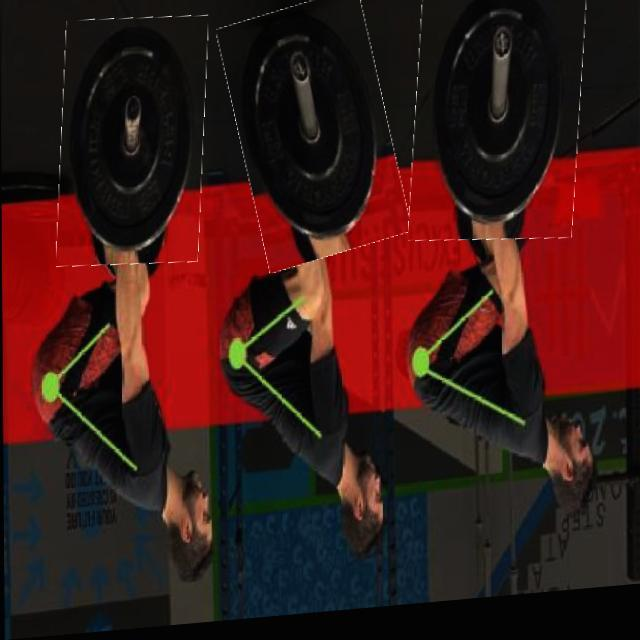barbell: (229, 1, 400, 276), (411, 1, 585, 258), (58, 15, 208, 274)
